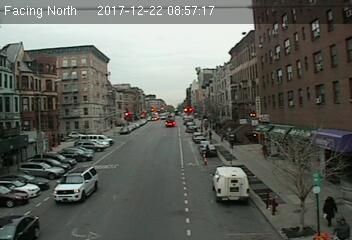car: (52, 166, 98, 202), (199, 145, 218, 156)
pedestrian: (321, 194, 339, 229)
truck: (212, 166, 249, 202)
